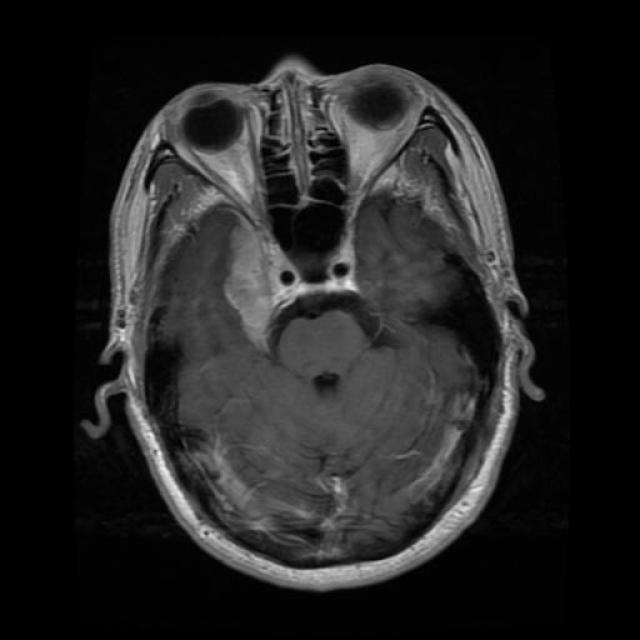meningioma: (225, 228, 279, 352)
